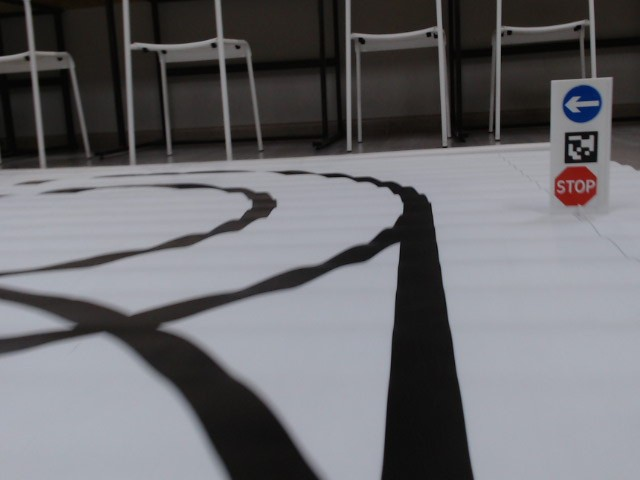Stop: (556, 164, 597, 206)
